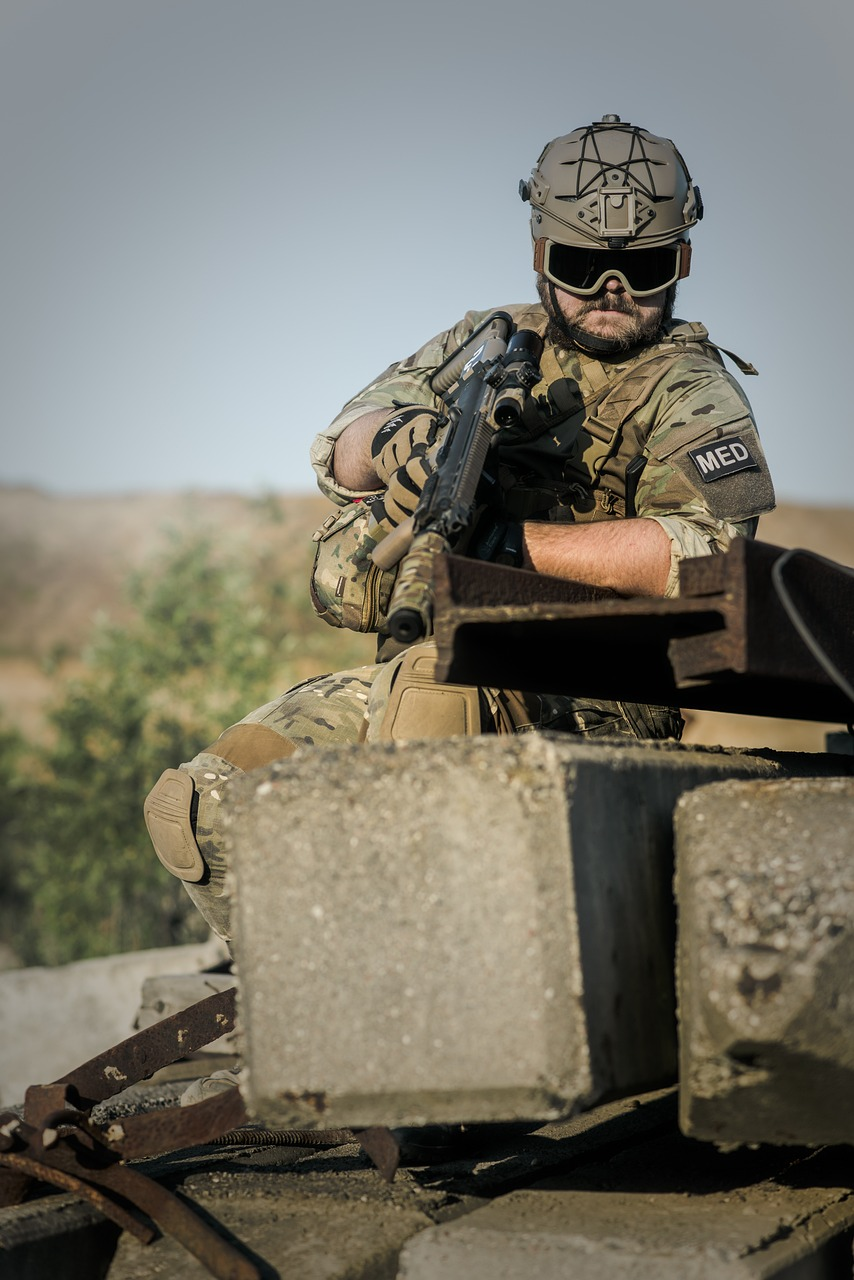gun: (343, 306, 554, 650)
